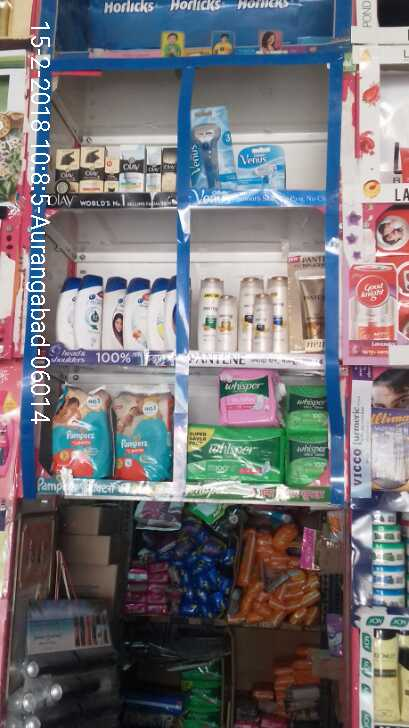venus: (191, 112, 236, 188), (237, 147, 286, 188)
